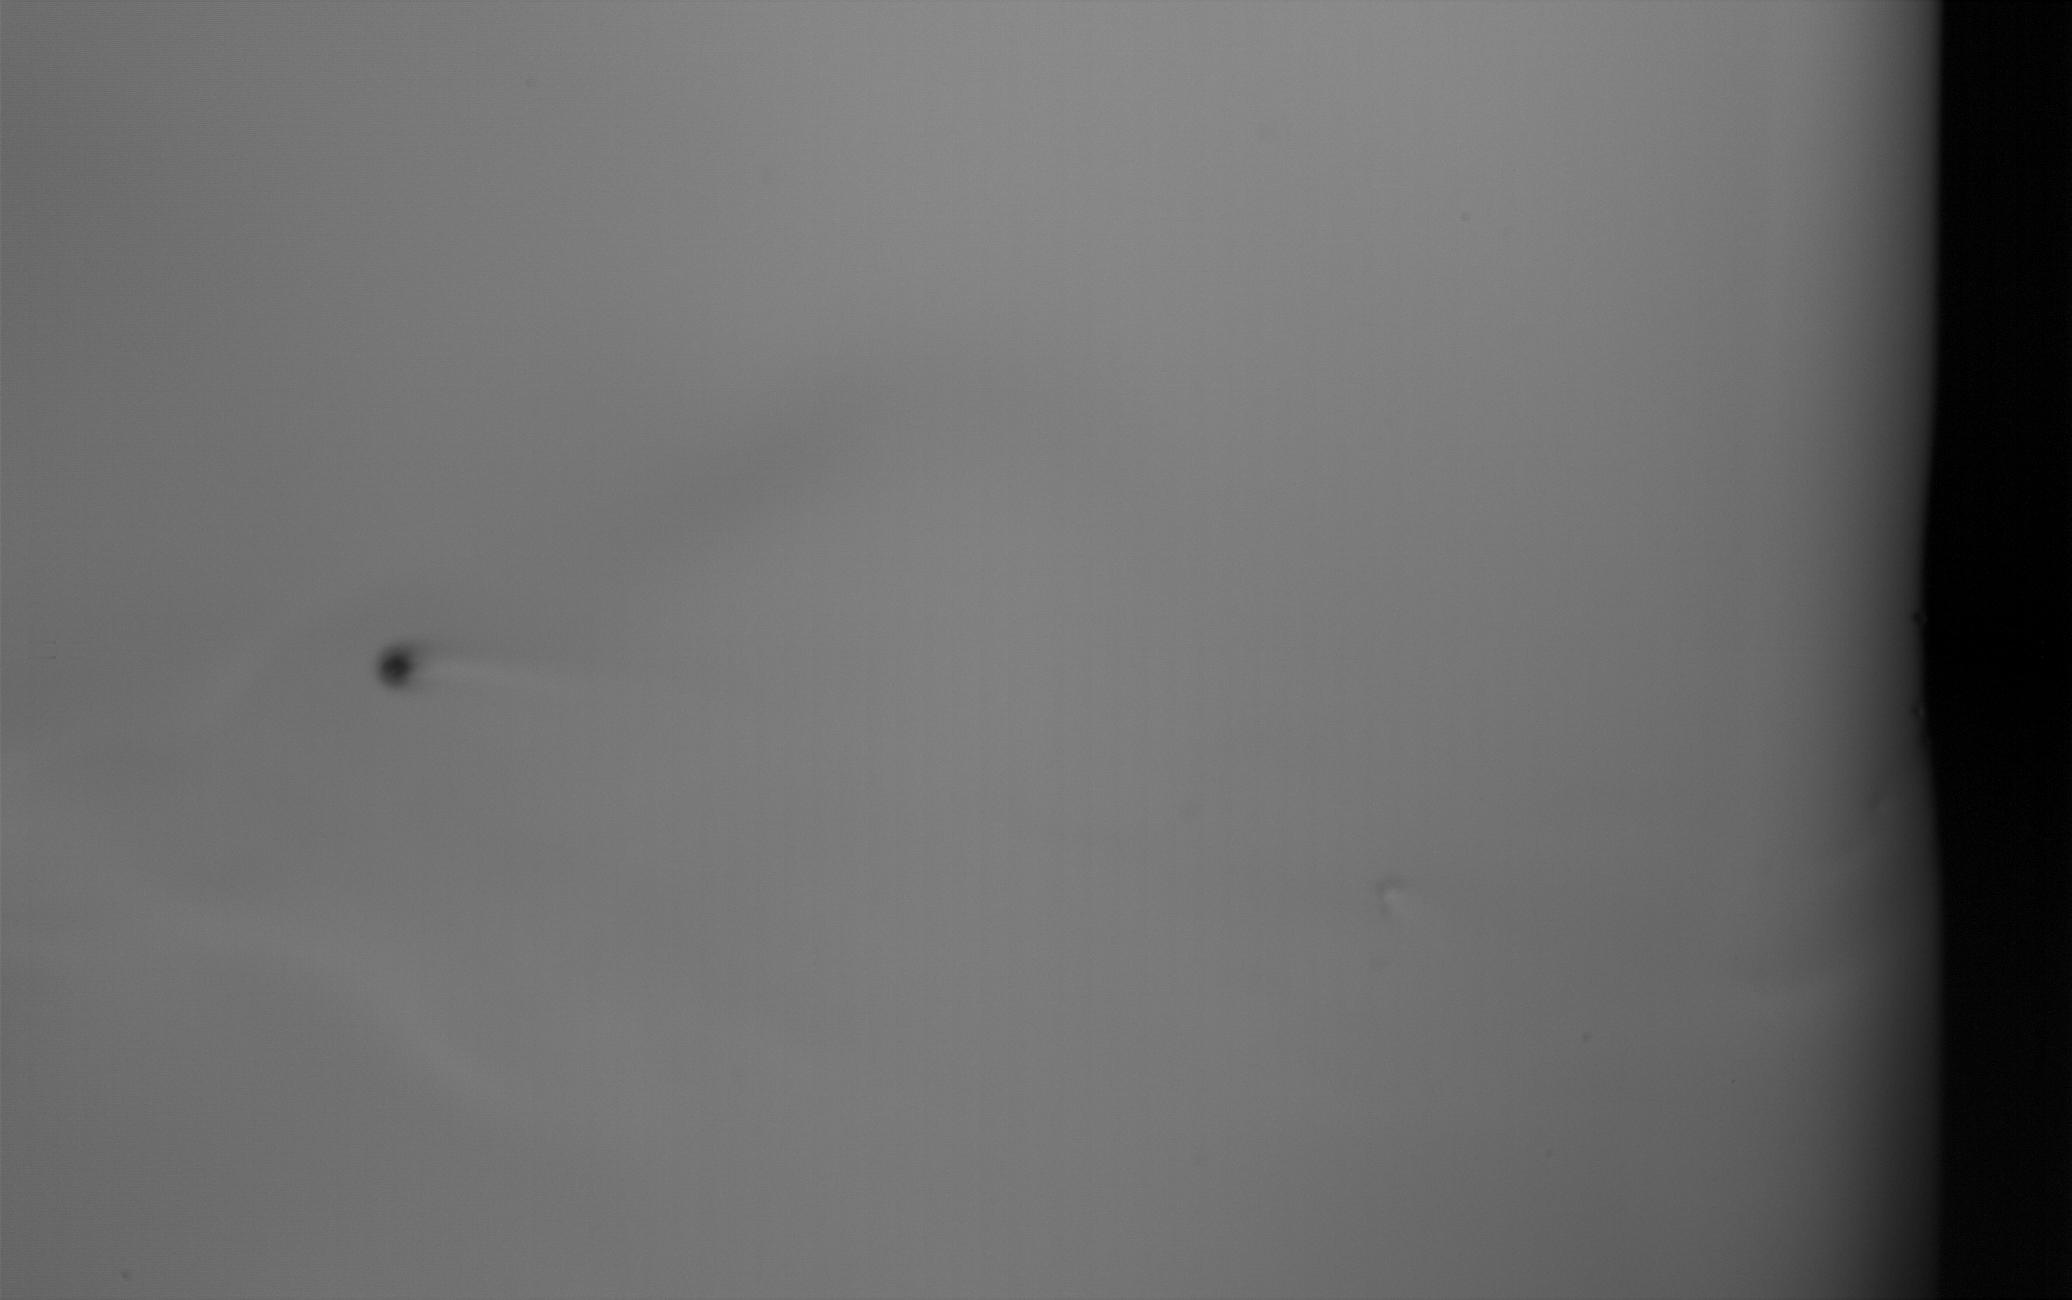Blurry: (374, 640, 422, 690)
